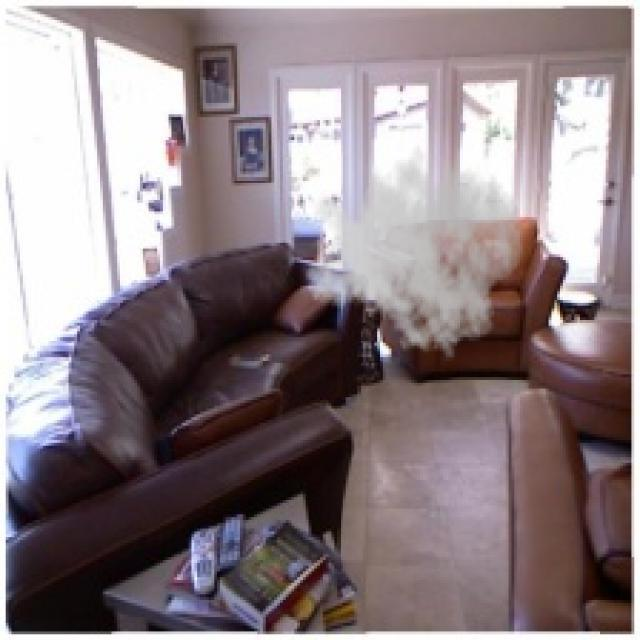Smoke: (306, 131, 526, 360)
